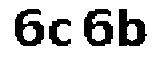6: (9, 4, 46, 50), (80, 3, 115, 50)
b: (116, 5, 149, 51)
c: (47, 18, 75, 48)
